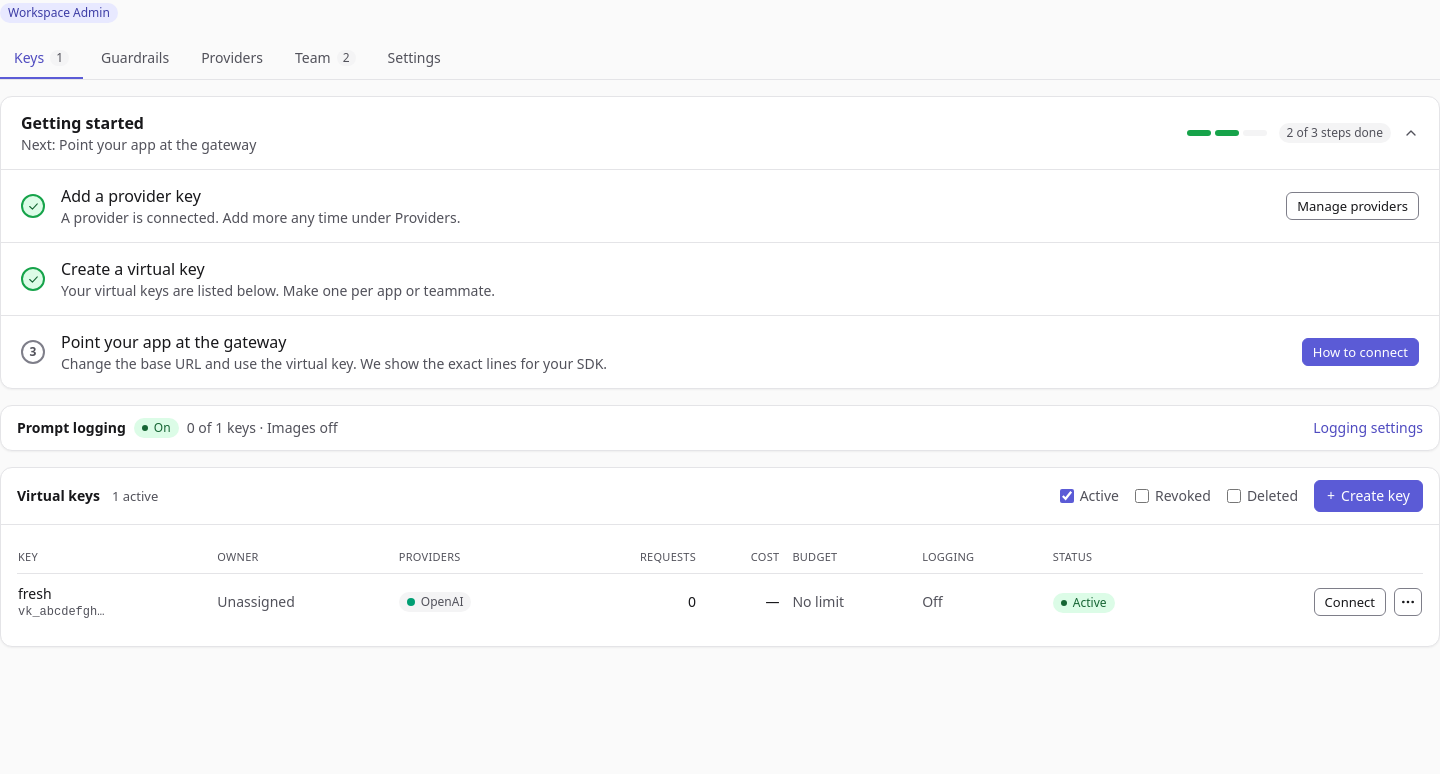
Test: Workspace Getting started section › brings the key into view and opens its Connect guide from 'How to connect'
Click the button "How to connect": (1360,352) [1302, 338, 1419, 366]
(page scrolled)
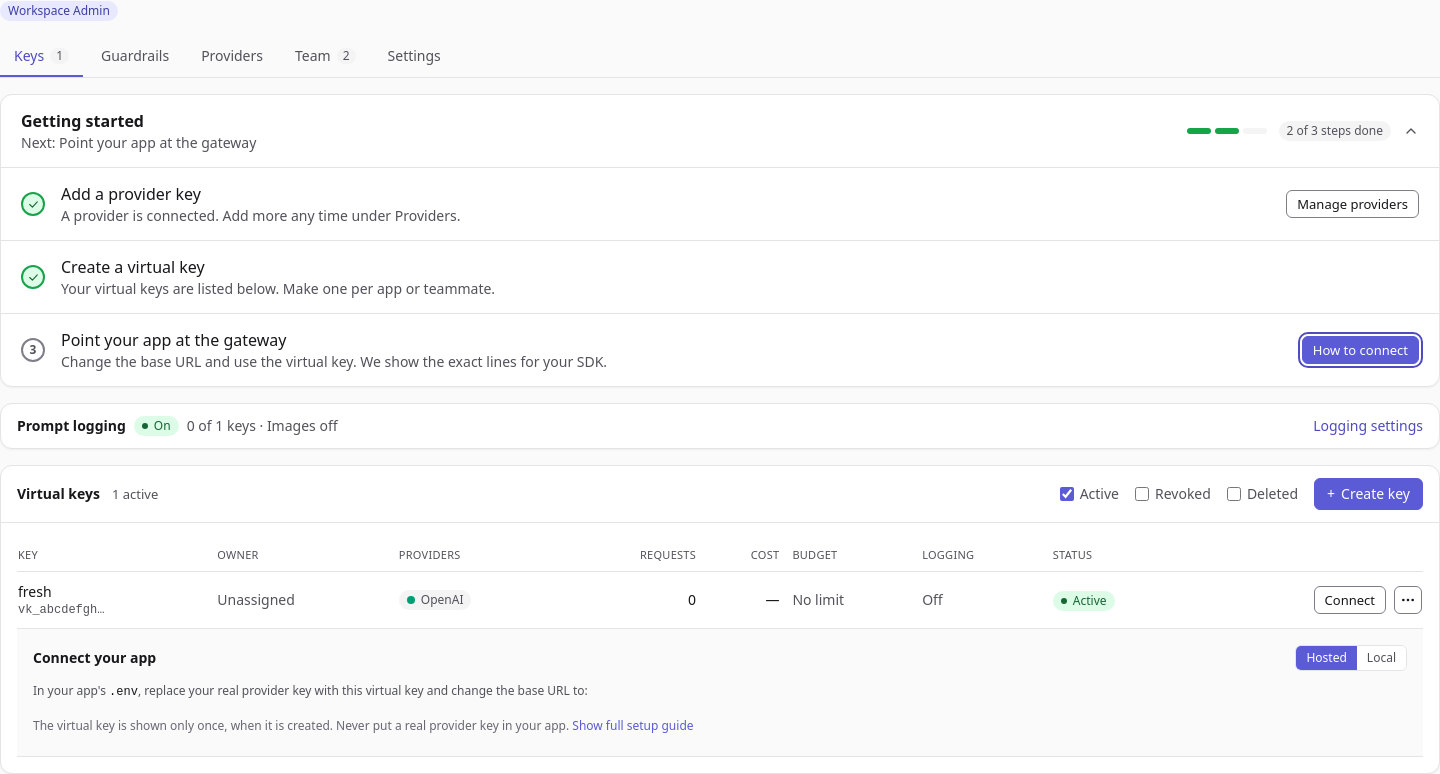
Check: the element "Connect your app" is shown, box [33, 645, 1407, 740]
